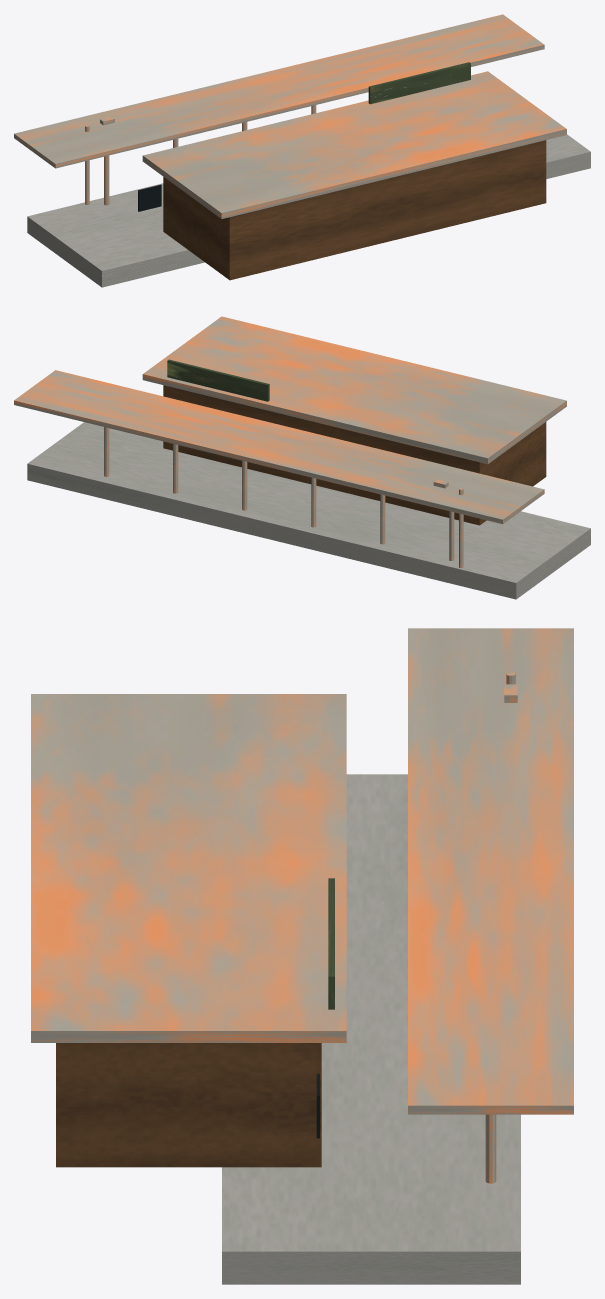
File: station.fbx
The picture shows the model from 3 angles, top to bottom: view 1: azimuth 30°, elevation 25°; view 2: azimuth 150°, elevation 25°; view 3: azimuth 270°, elevation 25°; orthographic projection. The views are drawn at different scales.
Parts seen in each view (by area): view 1: roof.003, building, canopy, platform, sign, win5; view 2: platform, roof.003, canopy, building, sign; view 3: roof.003, canopy, platform, building, sign, pillar0.
Part boxes in pixels (x1,y1,x2,y2): roof.003: (142, 71, 566, 218); building: (163, 140, 546, 280); canopy: (14, 14, 544, 168); platform: (27, 134, 590, 287); sign: (368, 62, 470, 104); win5: (138, 184, 161, 211); platform: (27, 422, 590, 599); roof.003: (142, 316, 566, 464); canopy: (14, 370, 544, 524); building: (163, 385, 546, 525); sign: (167, 359, 269, 401); roof.003: (31, 694, 346, 1042); canopy: (408, 628, 573, 1114); platform: (222, 774, 520, 1284); building: (56, 1043, 321, 1167); sign: (328, 878, 334, 1009); pillar0: (485, 1114, 496, 1183).
Bounding box in the file's own units: 3400 × 720 × 1635.
